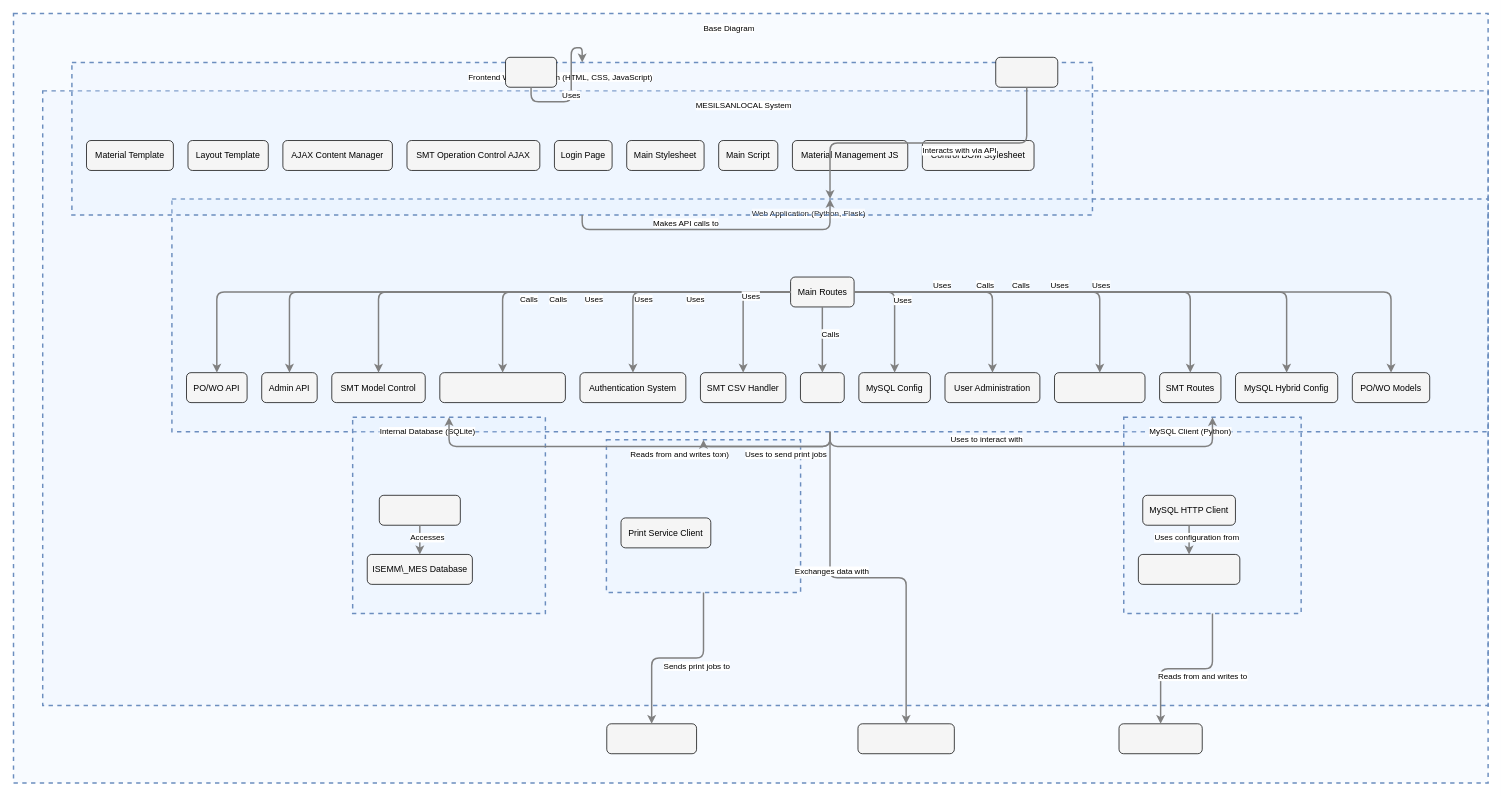
Image size: 1501x796. Some labels were removed from this diagram. The centre of each missing label's shape, as x and y in pixels:
Android API: the point at 1026,72
AOI API: the point at 822,387
Database Access: the point at 419,510
MES User: the point at 531,72
MySQL Configuration: the point at 1189,569
MySQL Database: the point at 1160,738
PO/WO Models (Duplicate): the point at 502,387
Sistema Trazabilidad: the point at 905,738
SMD Inventory API: the point at 1099,387
Zebra Print Service: the point at 651,738
